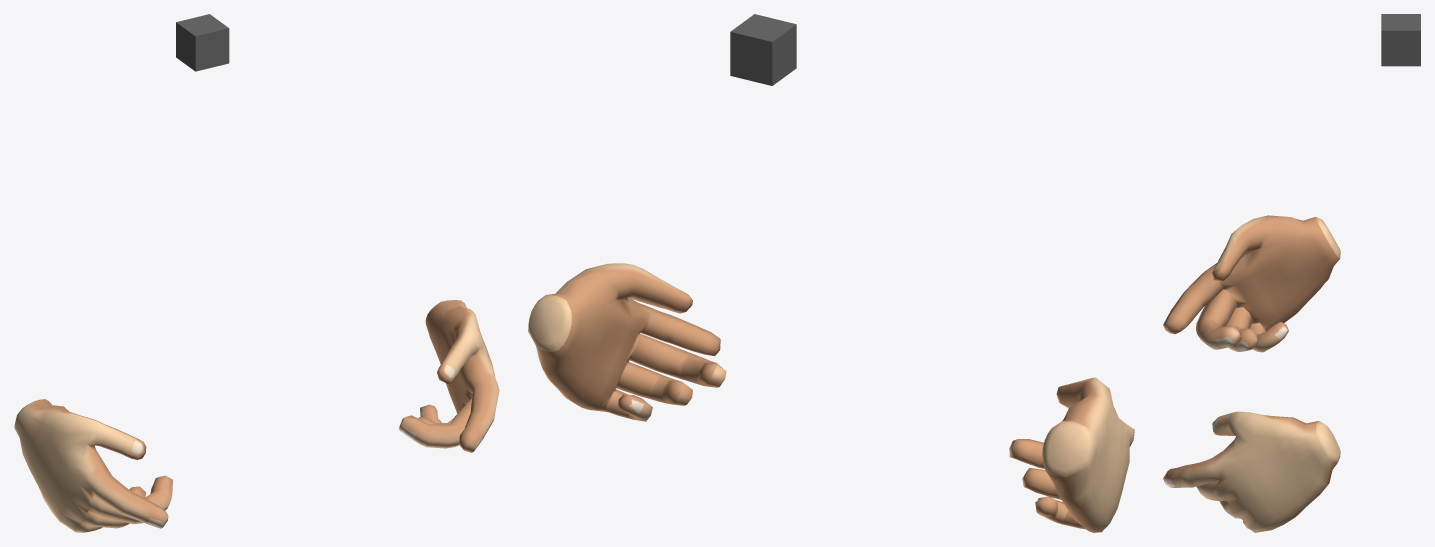
The model's file is hand.FBX.
3 views of the same model, side by side, from view 1: azimuth 30°, elevation 25°; view 2: azimuth 150°, elevation 25°; view 3: azimuth 270°, elevation 25° (orthographic). The views are drawn at different scales.
Visible parts, largest first — view 1: RHand1, LHand1, LhandPivot; view 2: LHand1, RHand1, LhandPivot; view 3: RHand1, LHand1, LhandPivot.
Part boxes in pixels (left/top/right/bottom): RHand1: left=14, top=399, right=172, bottom=532; LHand1: left=399, top=300, right=499, bottom=452; LhandPivot: left=176, top=14, right=229, bottom=71; LHand1: left=528, top=263, right=726, bottom=421; RHand1: left=1009, top=377, right=1134, bottom=532; LhandPivot: left=730, top=14, right=796, bottom=85; RHand1: left=1163, top=215, right=1340, bottom=352; LHand1: left=1163, top=411, right=1340, bottom=532; LhandPivot: left=1381, top=14, right=1420, bottom=66.
Bounding box in the file's own units: 133 × 116 × 65.3.
